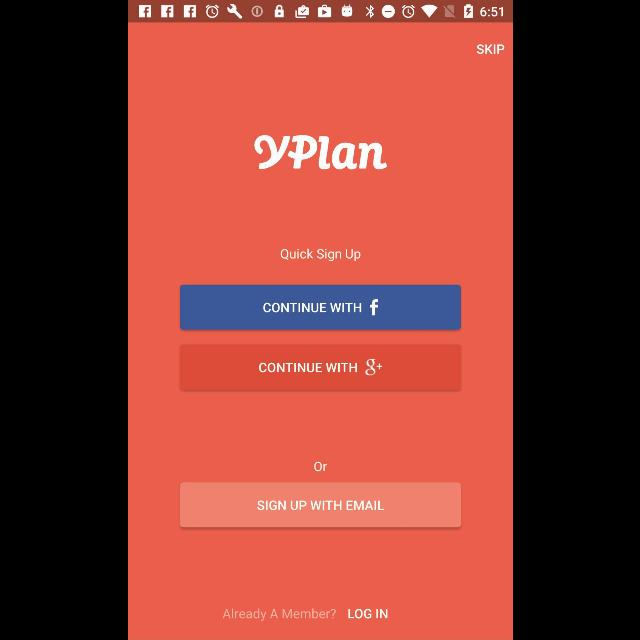image: (253, 136, 387, 170)
text: (221, 608, 335, 622), (280, 248, 360, 262), (347, 608, 387, 620), (476, 44, 504, 54), (314, 462, 326, 472)
textbutton: (180, 284, 460, 330), (180, 344, 460, 390), (180, 482, 460, 528)
uppertaskbar: (128, 1, 512, 23)
